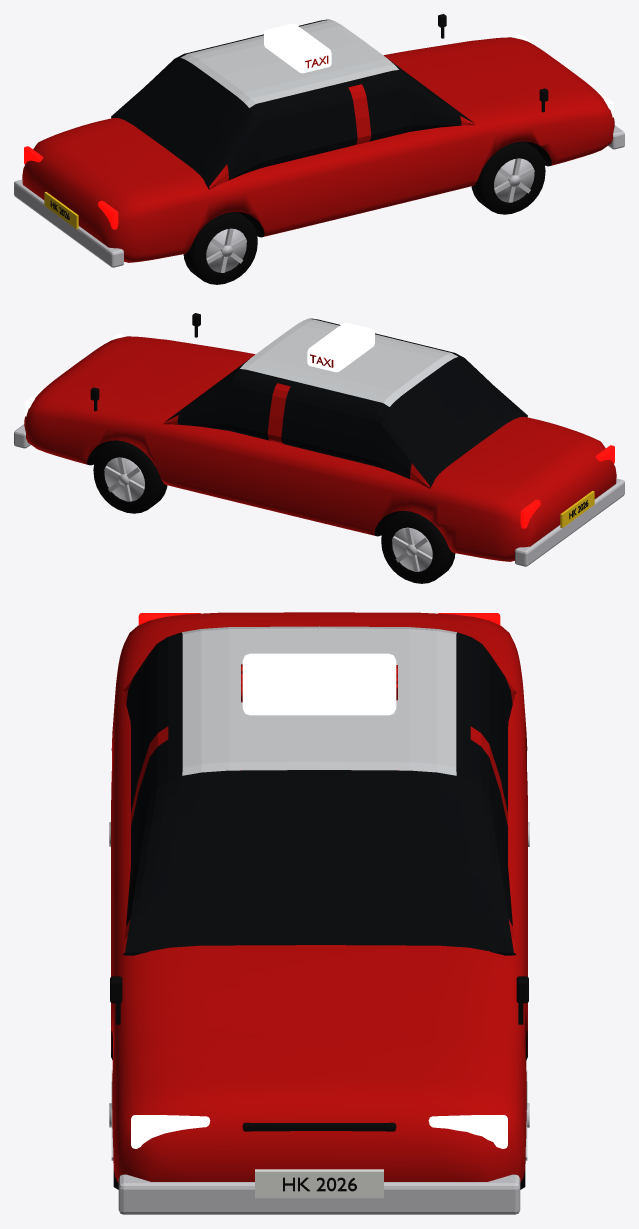
Rendered from taxi.glb.
3 renders of one model, top to bottom at view 1: azimuth 30°, elevation 25°; view 2: azimuth 150°, elevation 25°; view 3: azimuth 270°, elevation 25°, orthographic. The views are drawn at different scales.
Parts seen in each view (by area): view 1: body, greenhouse, w_tyre.003, w_tyre.001, sign, bumperR, w_rim.003, w_rim.001, plate.001; view 2: body, greenhouse, w_tyre.002, w_tyre, sign, bumperR, w_rim.002, w_rim, plate.001; view 3: greenhouse, body, bumperF, sign, plate, head, head.001, grille.
Part boxes in pixels (<box>): body: <box>22,37,614,262</box>; greenhouse: <box>111,19,475,189</box>; w_tyre.003: <box>183,211,257,284</box>; w_tyre.001: <box>471,141,545,214</box>; sign: <box>264,23,331,73</box>; bumperR: <box>14,179,123,267</box>; w_rim.003: <box>206,229,246,272</box>; w_rim.001: <box>494,158,534,202</box>; plate.001: <box>44,192,78,229</box>; body: <box>24,336,616,561</box>; greenhouse: <box>163,318,527,488</box>; w_tyre.002: <box>381,510,455,583</box>; w_tyre: <box>93,440,167,513</box>; sign: <box>307,322,374,372</box>; bumperR: <box>515,478,624,566</box>; w_rim.002: <box>392,528,432,571</box>; w_rim: <box>104,457,144,501</box>; plate.001: <box>560,491,594,528</box>; greenhouse: <box>122,626,516,955</box>; body: <box>111,612,527,1182</box>; bumperF: <box>118,1174,520,1214</box>; sign: <box>242,653,396,715</box>; plate: <box>255,1169,383,1198</box>; head: <box>428,1115,507,1148</box>; head.001: <box>131,1115,210,1148</box>; grille: <box>242,1122,396,1131</box>.
Bounding box in the file's own units: 4.83 × 1.59 × 1.69.
